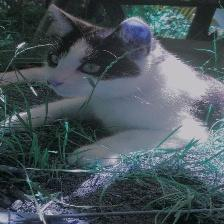kedo: (0, 5, 224, 170)
